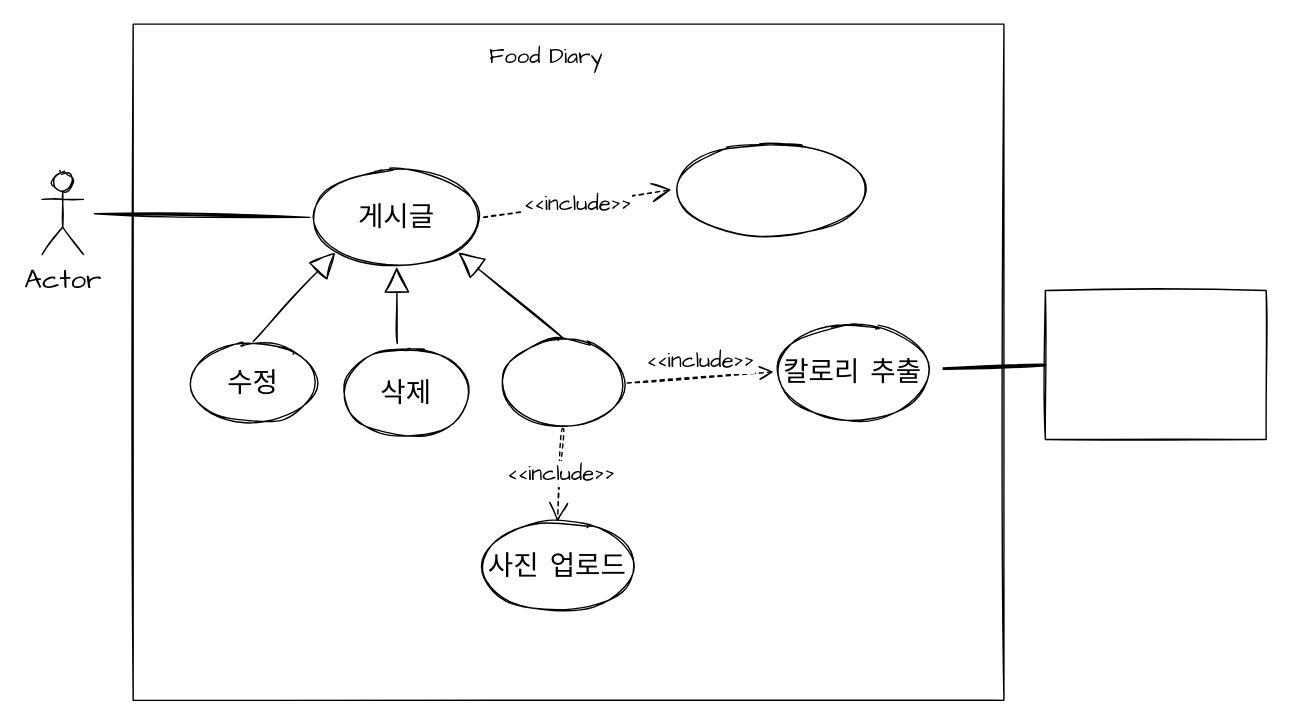
This 1290x725 diagram has some shape labels left out. Each missing label, with the centre of its shape:
«actor» food detection: the point at 1155,364
사용자 인증: the point at 770,189
작성: the point at 562,382
